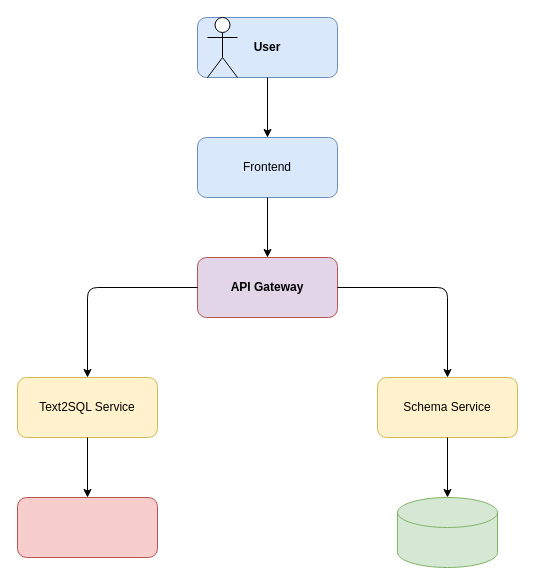
This 535x585 diagram has some shape labels left out. The shapes that lost their labels are listed below. From the top down, each one's centre as x and y in pixels, then its label:
At [222,47]: "Actor".
At [87,527]: "Gemini".
At [447,532]: "PostgreSQL".
